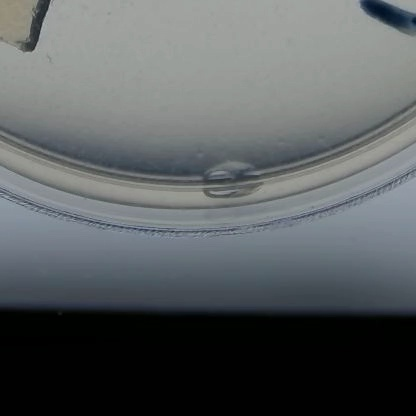worm: (41, 43, 62, 66), (52, 0, 62, 8)
